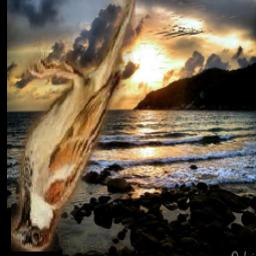Sparrow: (11, 0, 136, 253)
